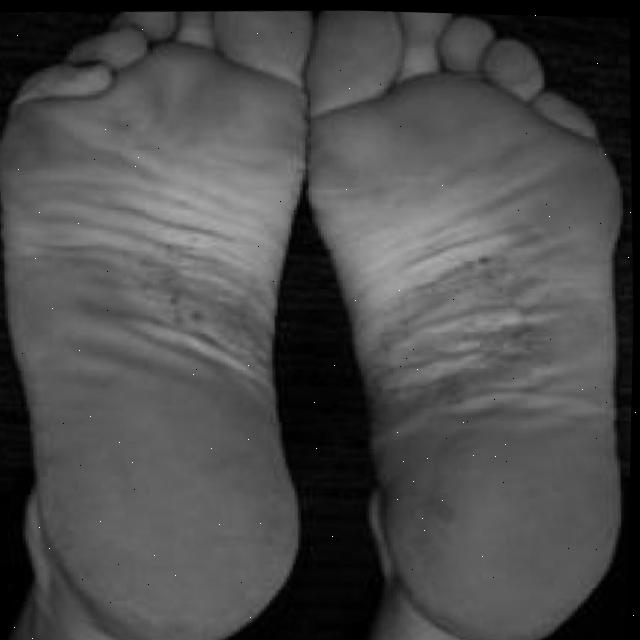Eczema: (387, 253, 529, 392), (136, 236, 257, 368)
